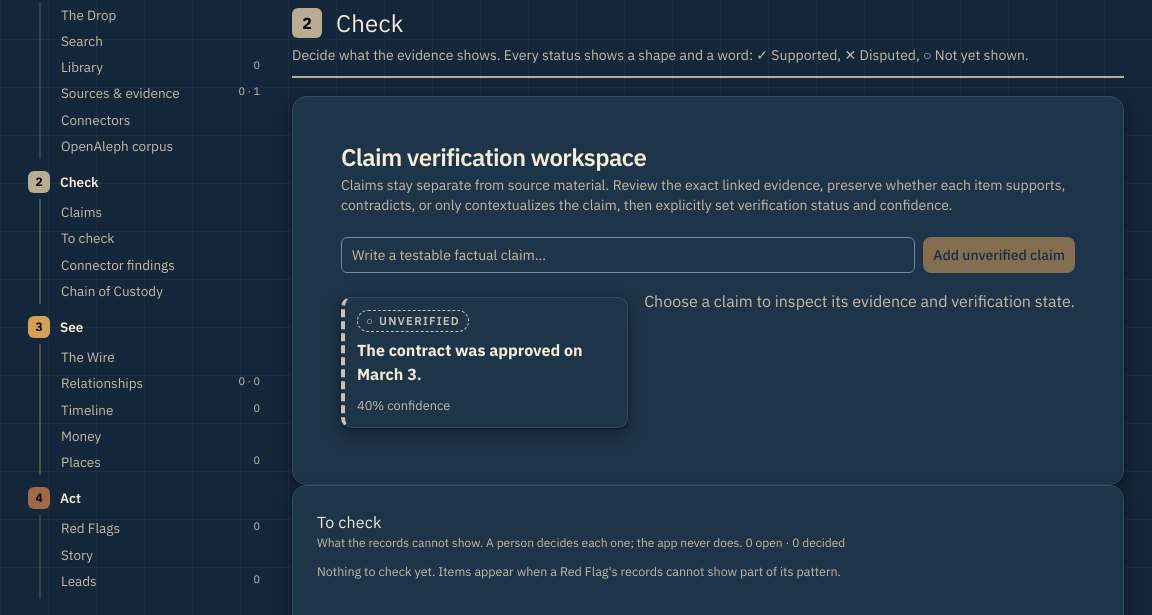
Home claim verification workspace › creates a claim, reloads the list, and opens its review workspace
(page scrolled)
Expected: the text "The contract was approved on March 3." is shown, [357,338,615,386]
In the field with placeholder "Write a testable factual claim…": [628, 255] box [341,237,915,273], type "The vendor was paid twice."
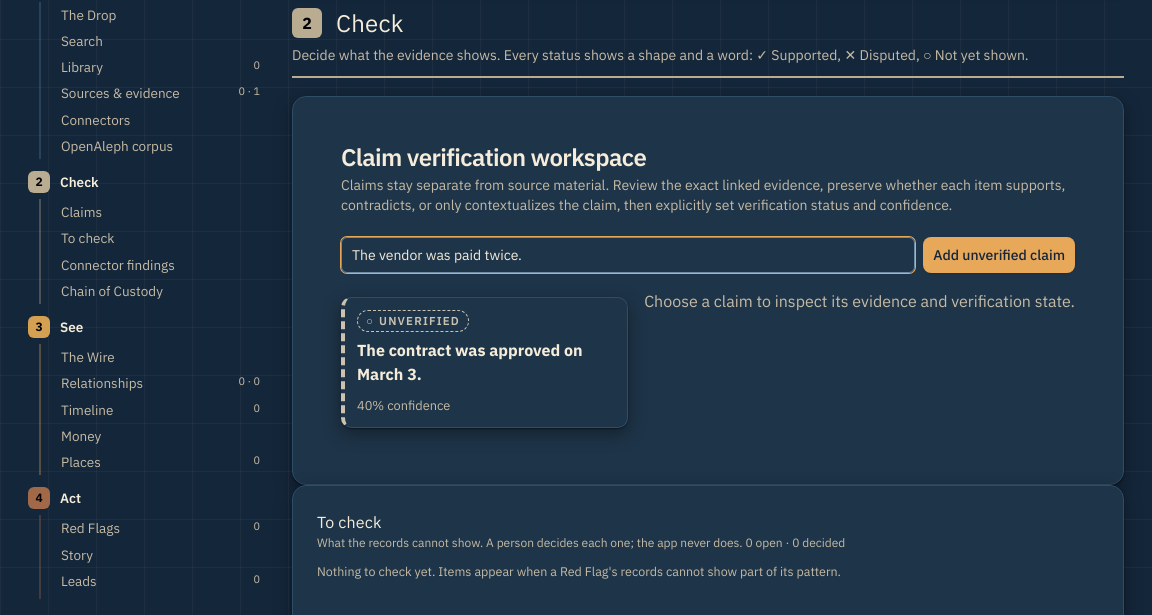
Click the button "Add unverified claim": [999, 255] box [923,237,1075,273]
(page scrolled)
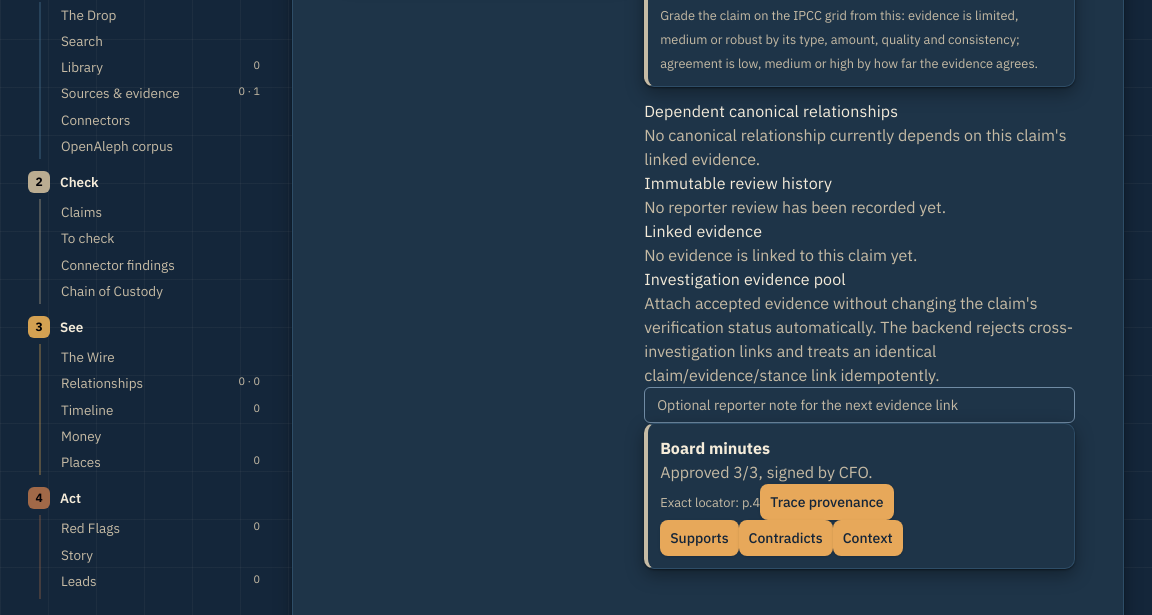
Expected: the text "No evidence is linked to this claim yet." is shown, [644,245,917,265]
